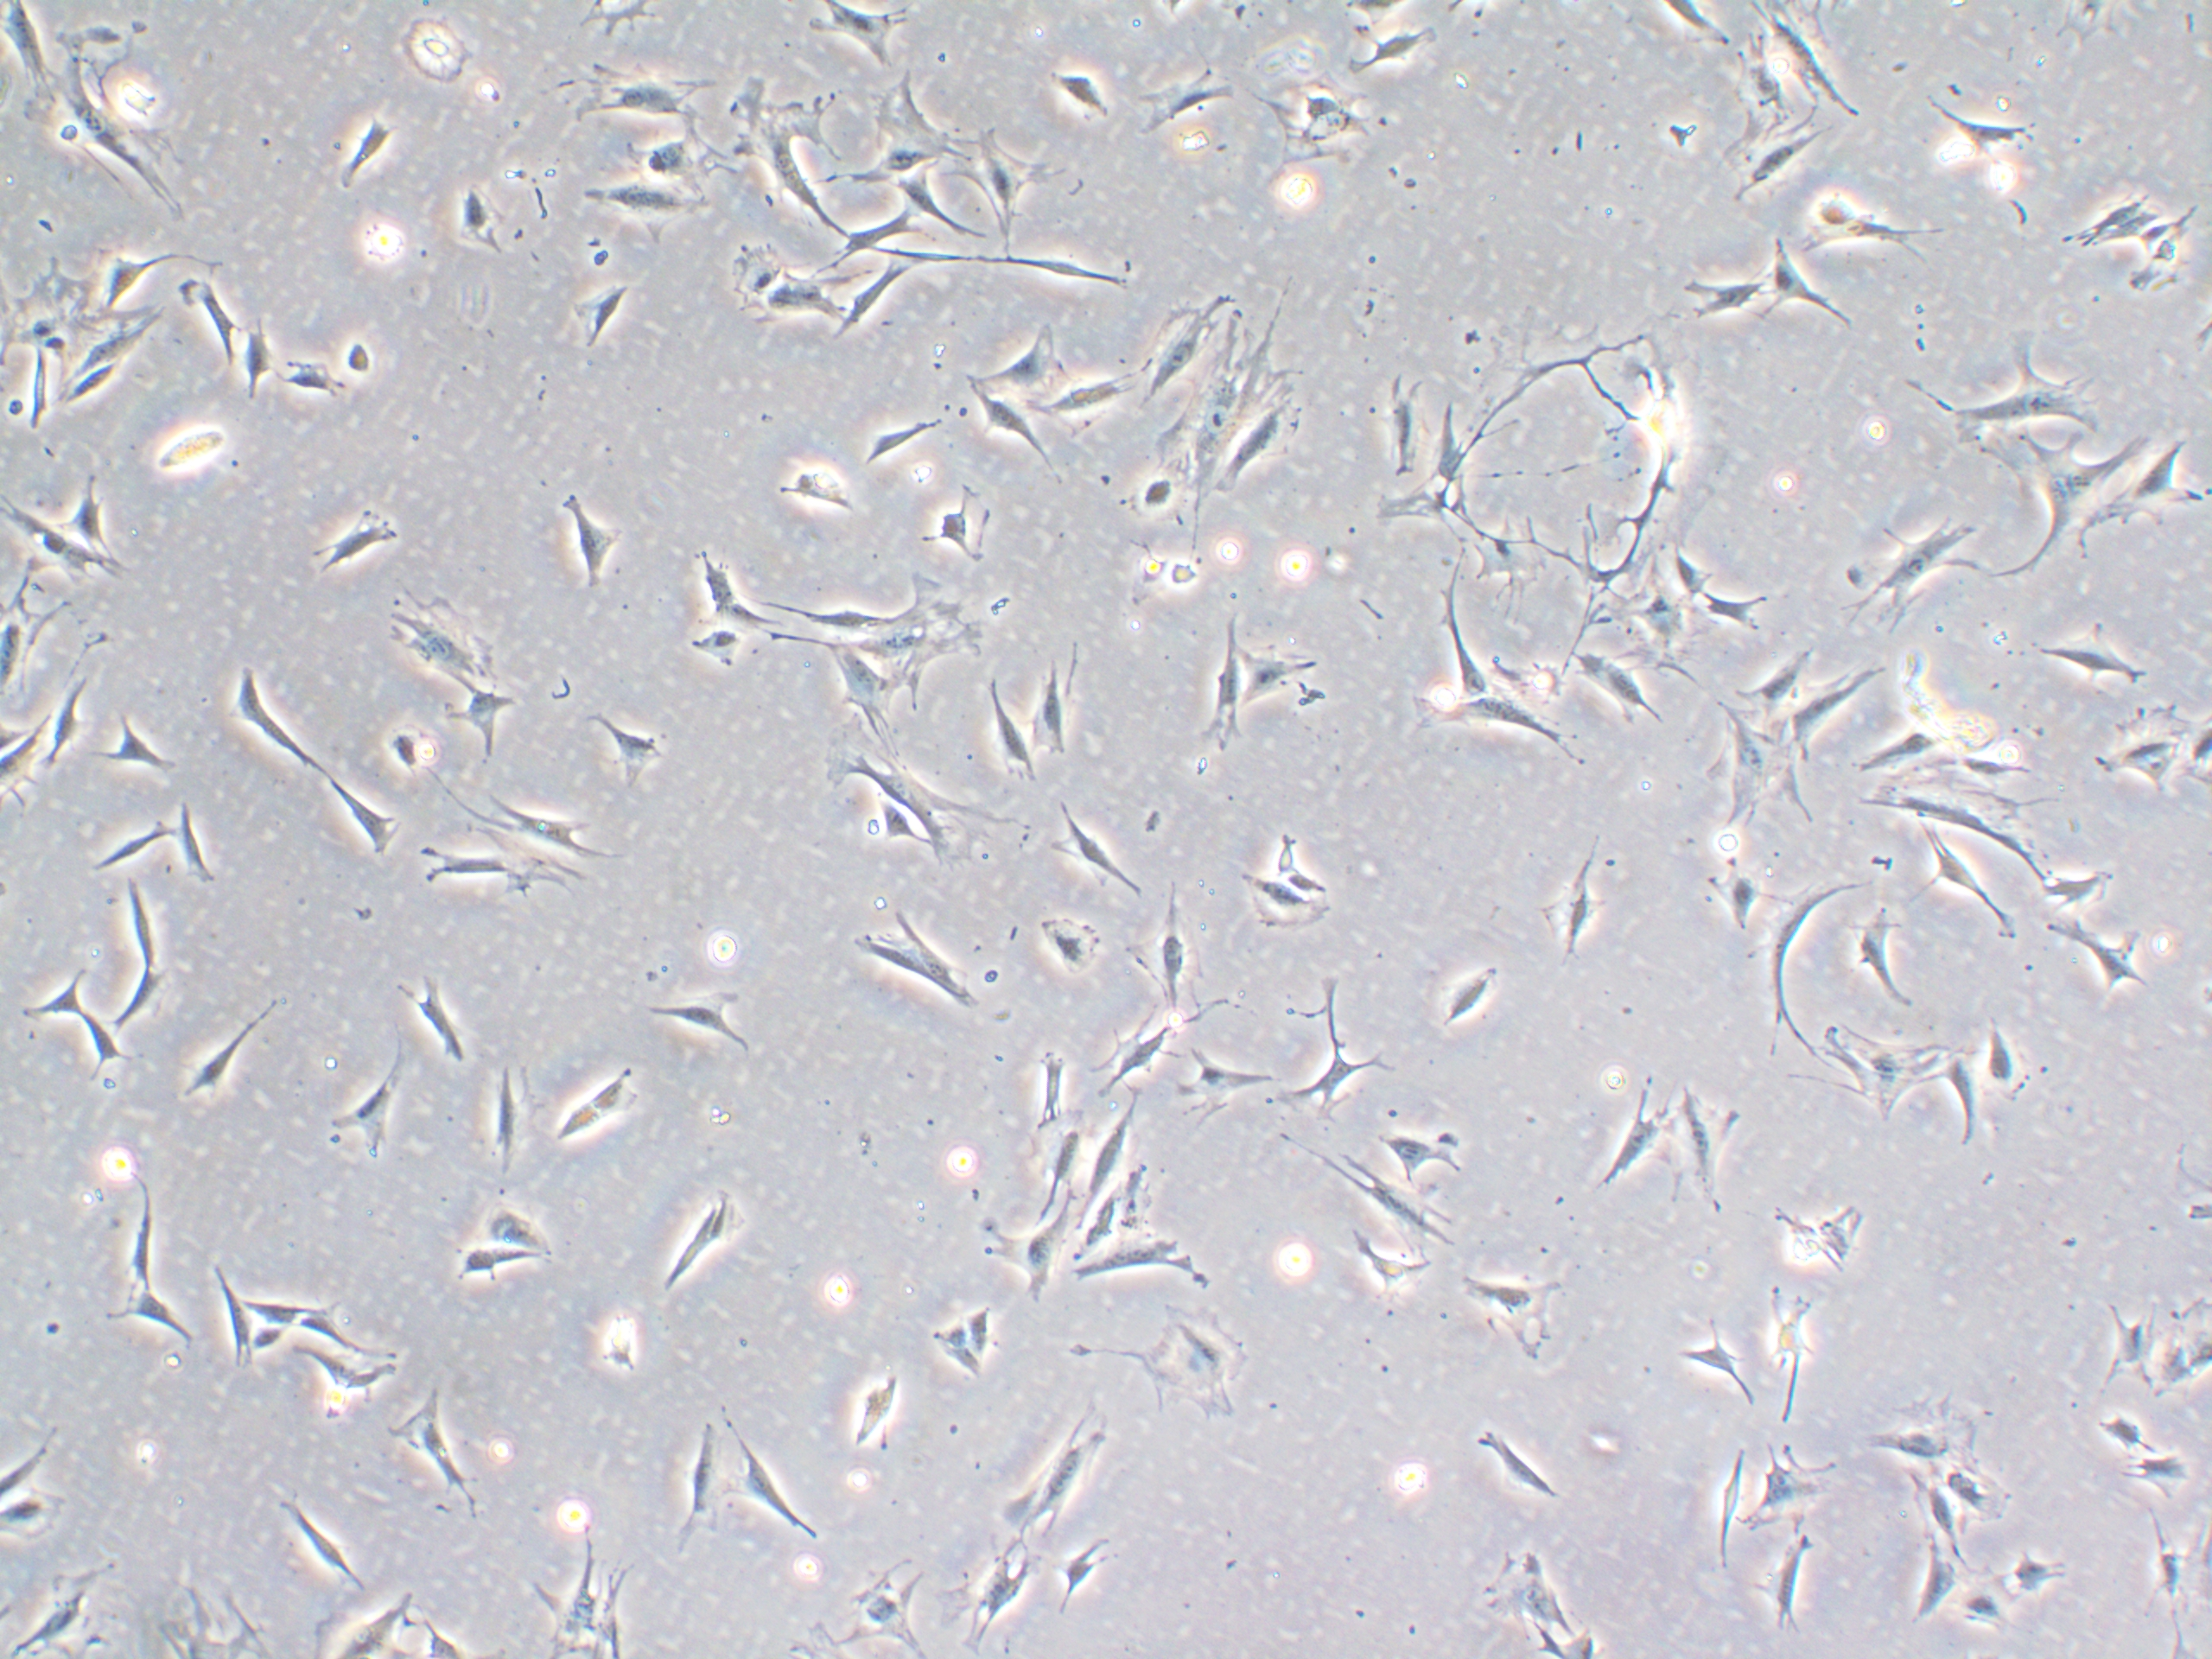small: (1123, 460, 1212, 533), (1116, 537, 1172, 606)
spread: (1130, 289, 1306, 547), (7, 42, 197, 228), (820, 558, 991, 725), (1087, 1290, 1259, 1439), (707, 59, 831, 254), (0, 267, 162, 415), (1670, 697, 1815, 847), (928, 112, 1061, 272), (855, 71, 998, 220), (1244, 56, 1379, 195), (1820, 1014, 1951, 1141), (380, 584, 503, 692)
